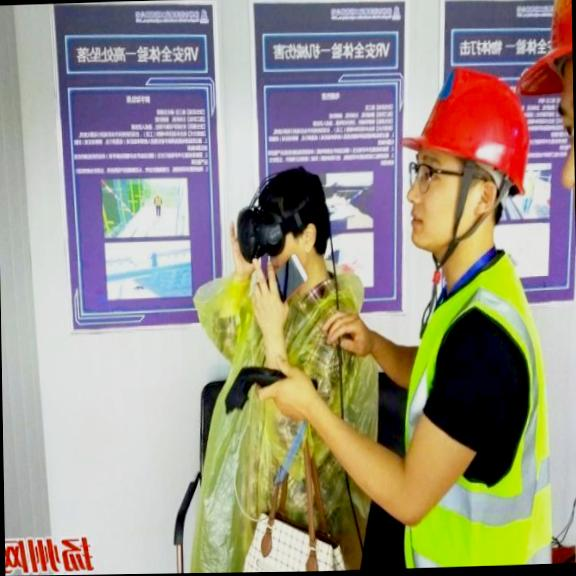no_safety_vest: (230, 276, 362, 554)
safety_vest: (372, 241, 548, 568)
